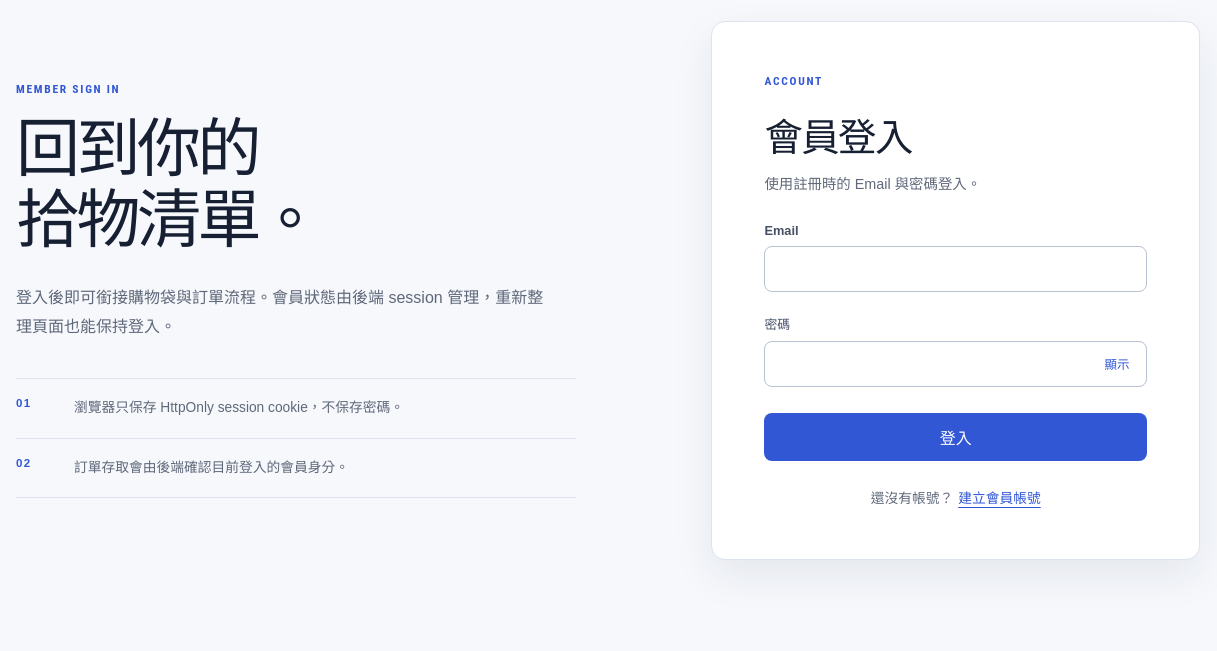
LoginPage › 登入失敗時顯示可理解的錯誤
The image size is (1217, 651).
Type "member@example.com" into the field labelled "Email" at {"x": 956, "y": 268}, box top-left (764, 246), bottom-right (1147, 292)
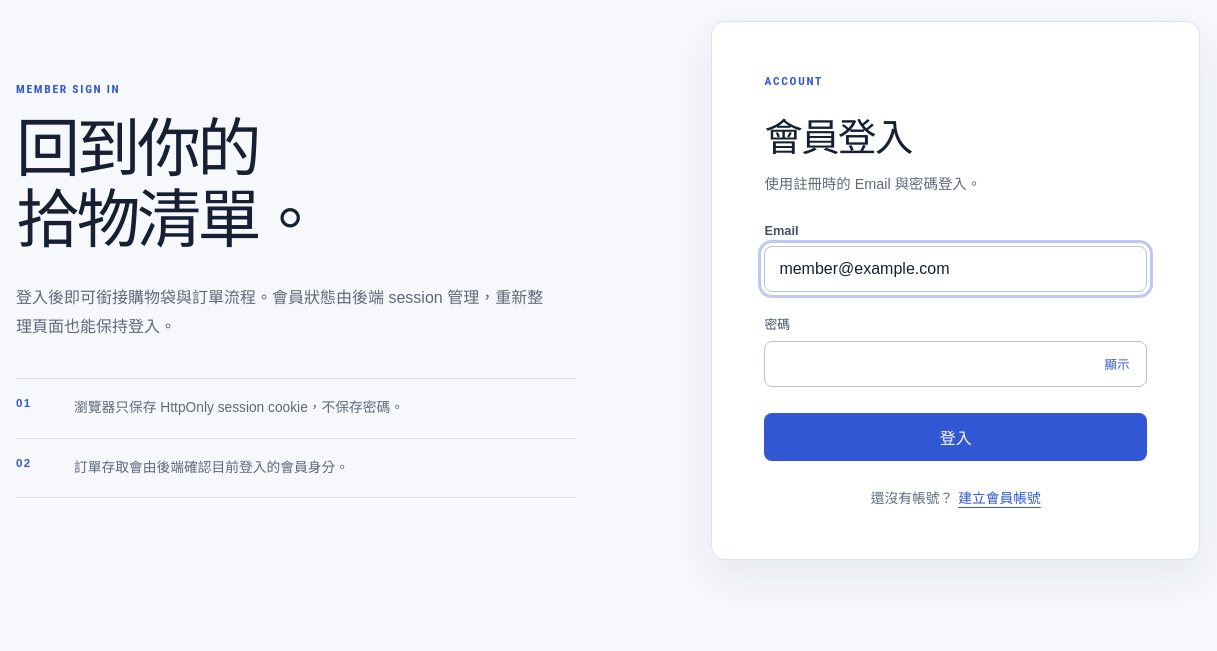
Type "wrong-password" into the password field labelled "密碼" at {"x": 956, "y": 364}, box top-left (764, 340), bottom-right (1147, 386)
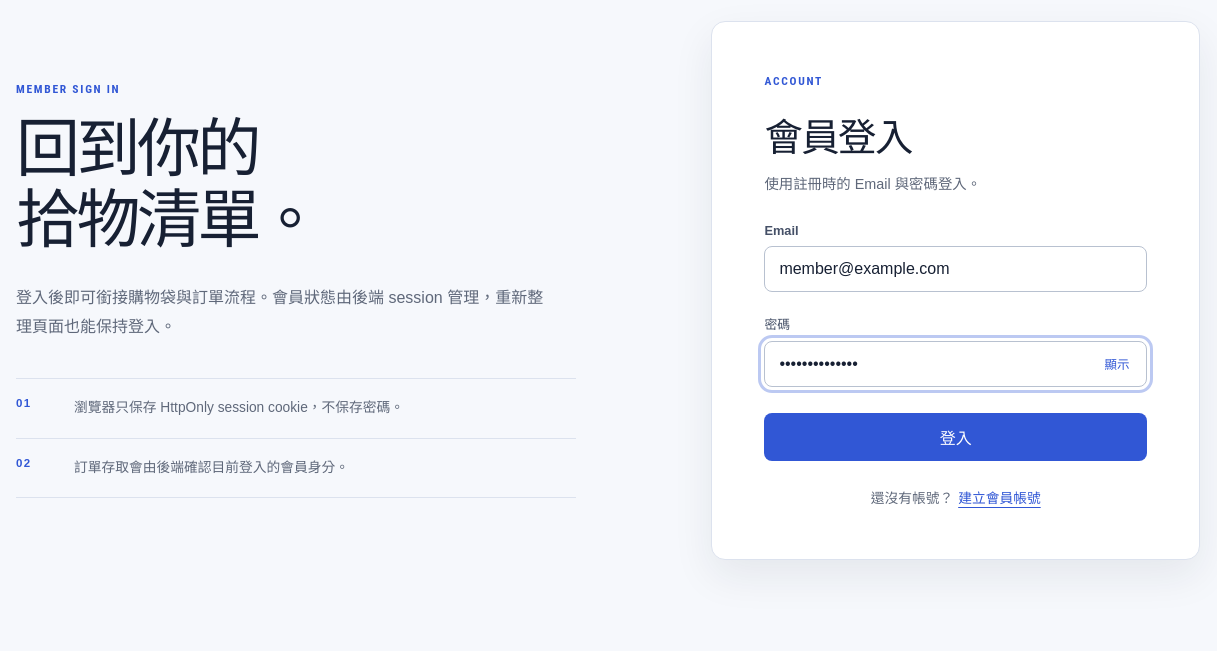
Click the button "登入" at {"x": 956, "y": 436}, box top-left (764, 412), bottom-right (1147, 460)
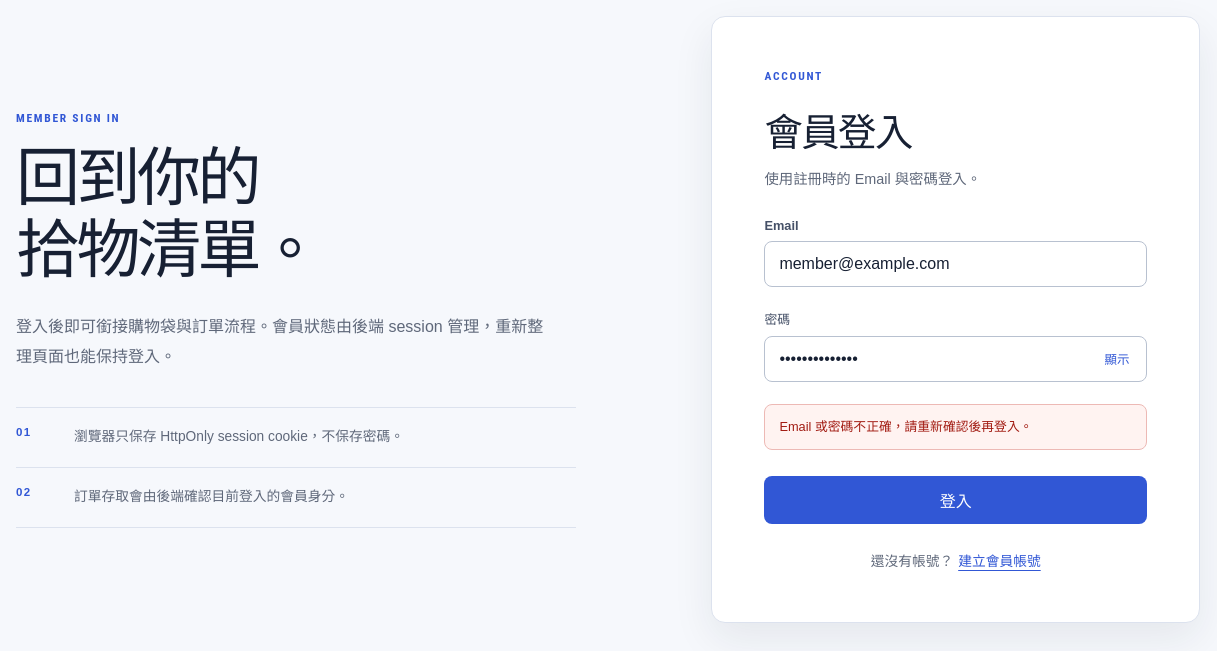
Check: the message reads "Email 或密碼不正確，請重新確認後再登入。", box top-left (779, 419), bottom-right (1032, 434)
